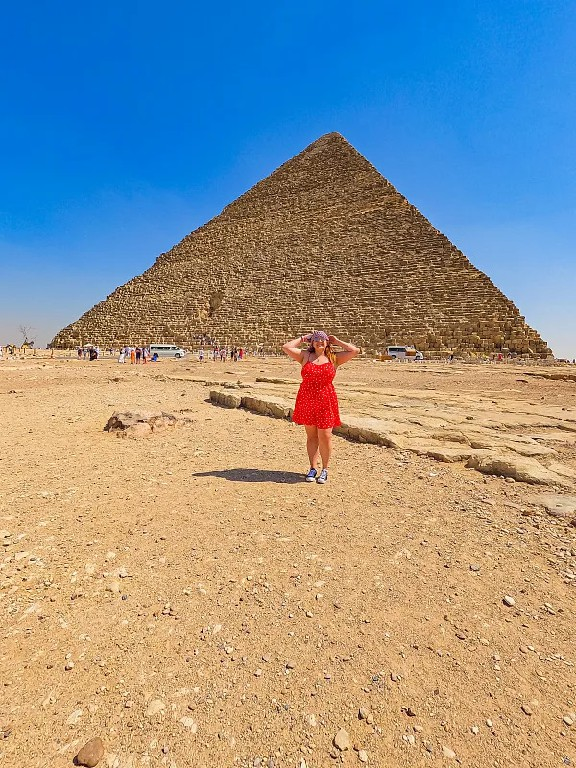Pyramid: (49, 130, 554, 357)
